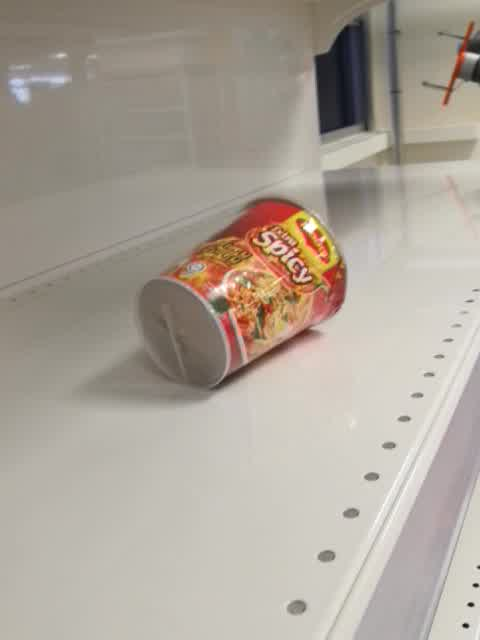maggi: (135, 193, 347, 393)
